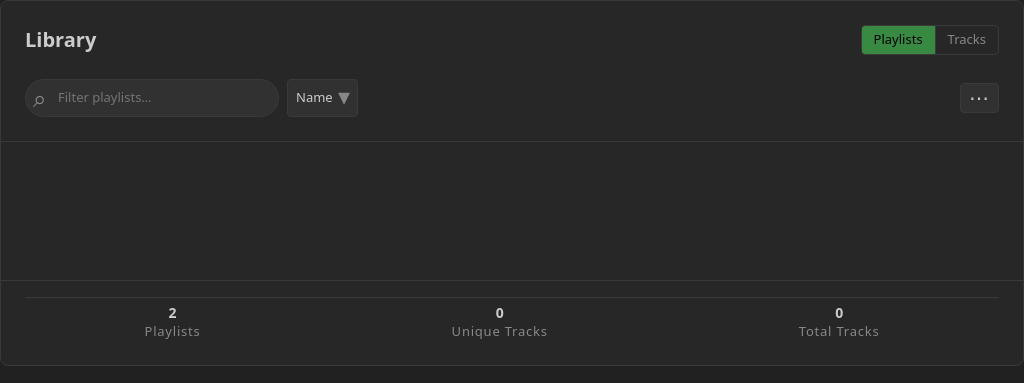
LibraryCard › filters playlists by query
Type "blues" into the search field with class "search-bar__input" at [152, 98], box [25,79,279,116]
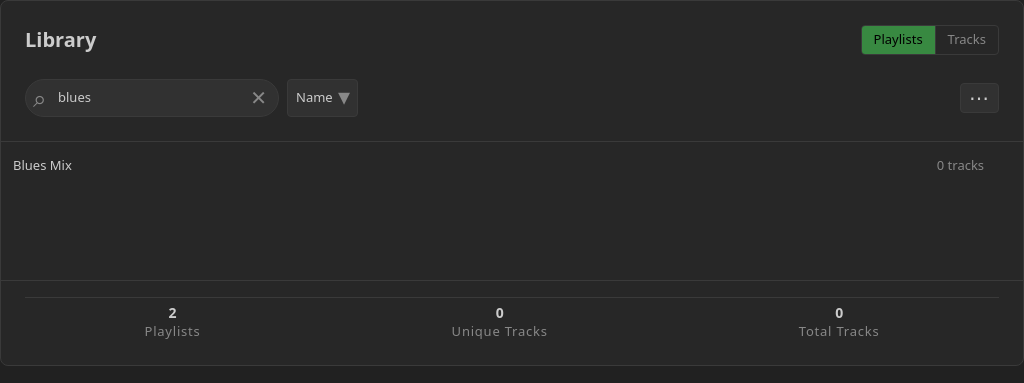
Check: the text "Blues Mix" is shown, box [13,156,72,174]
